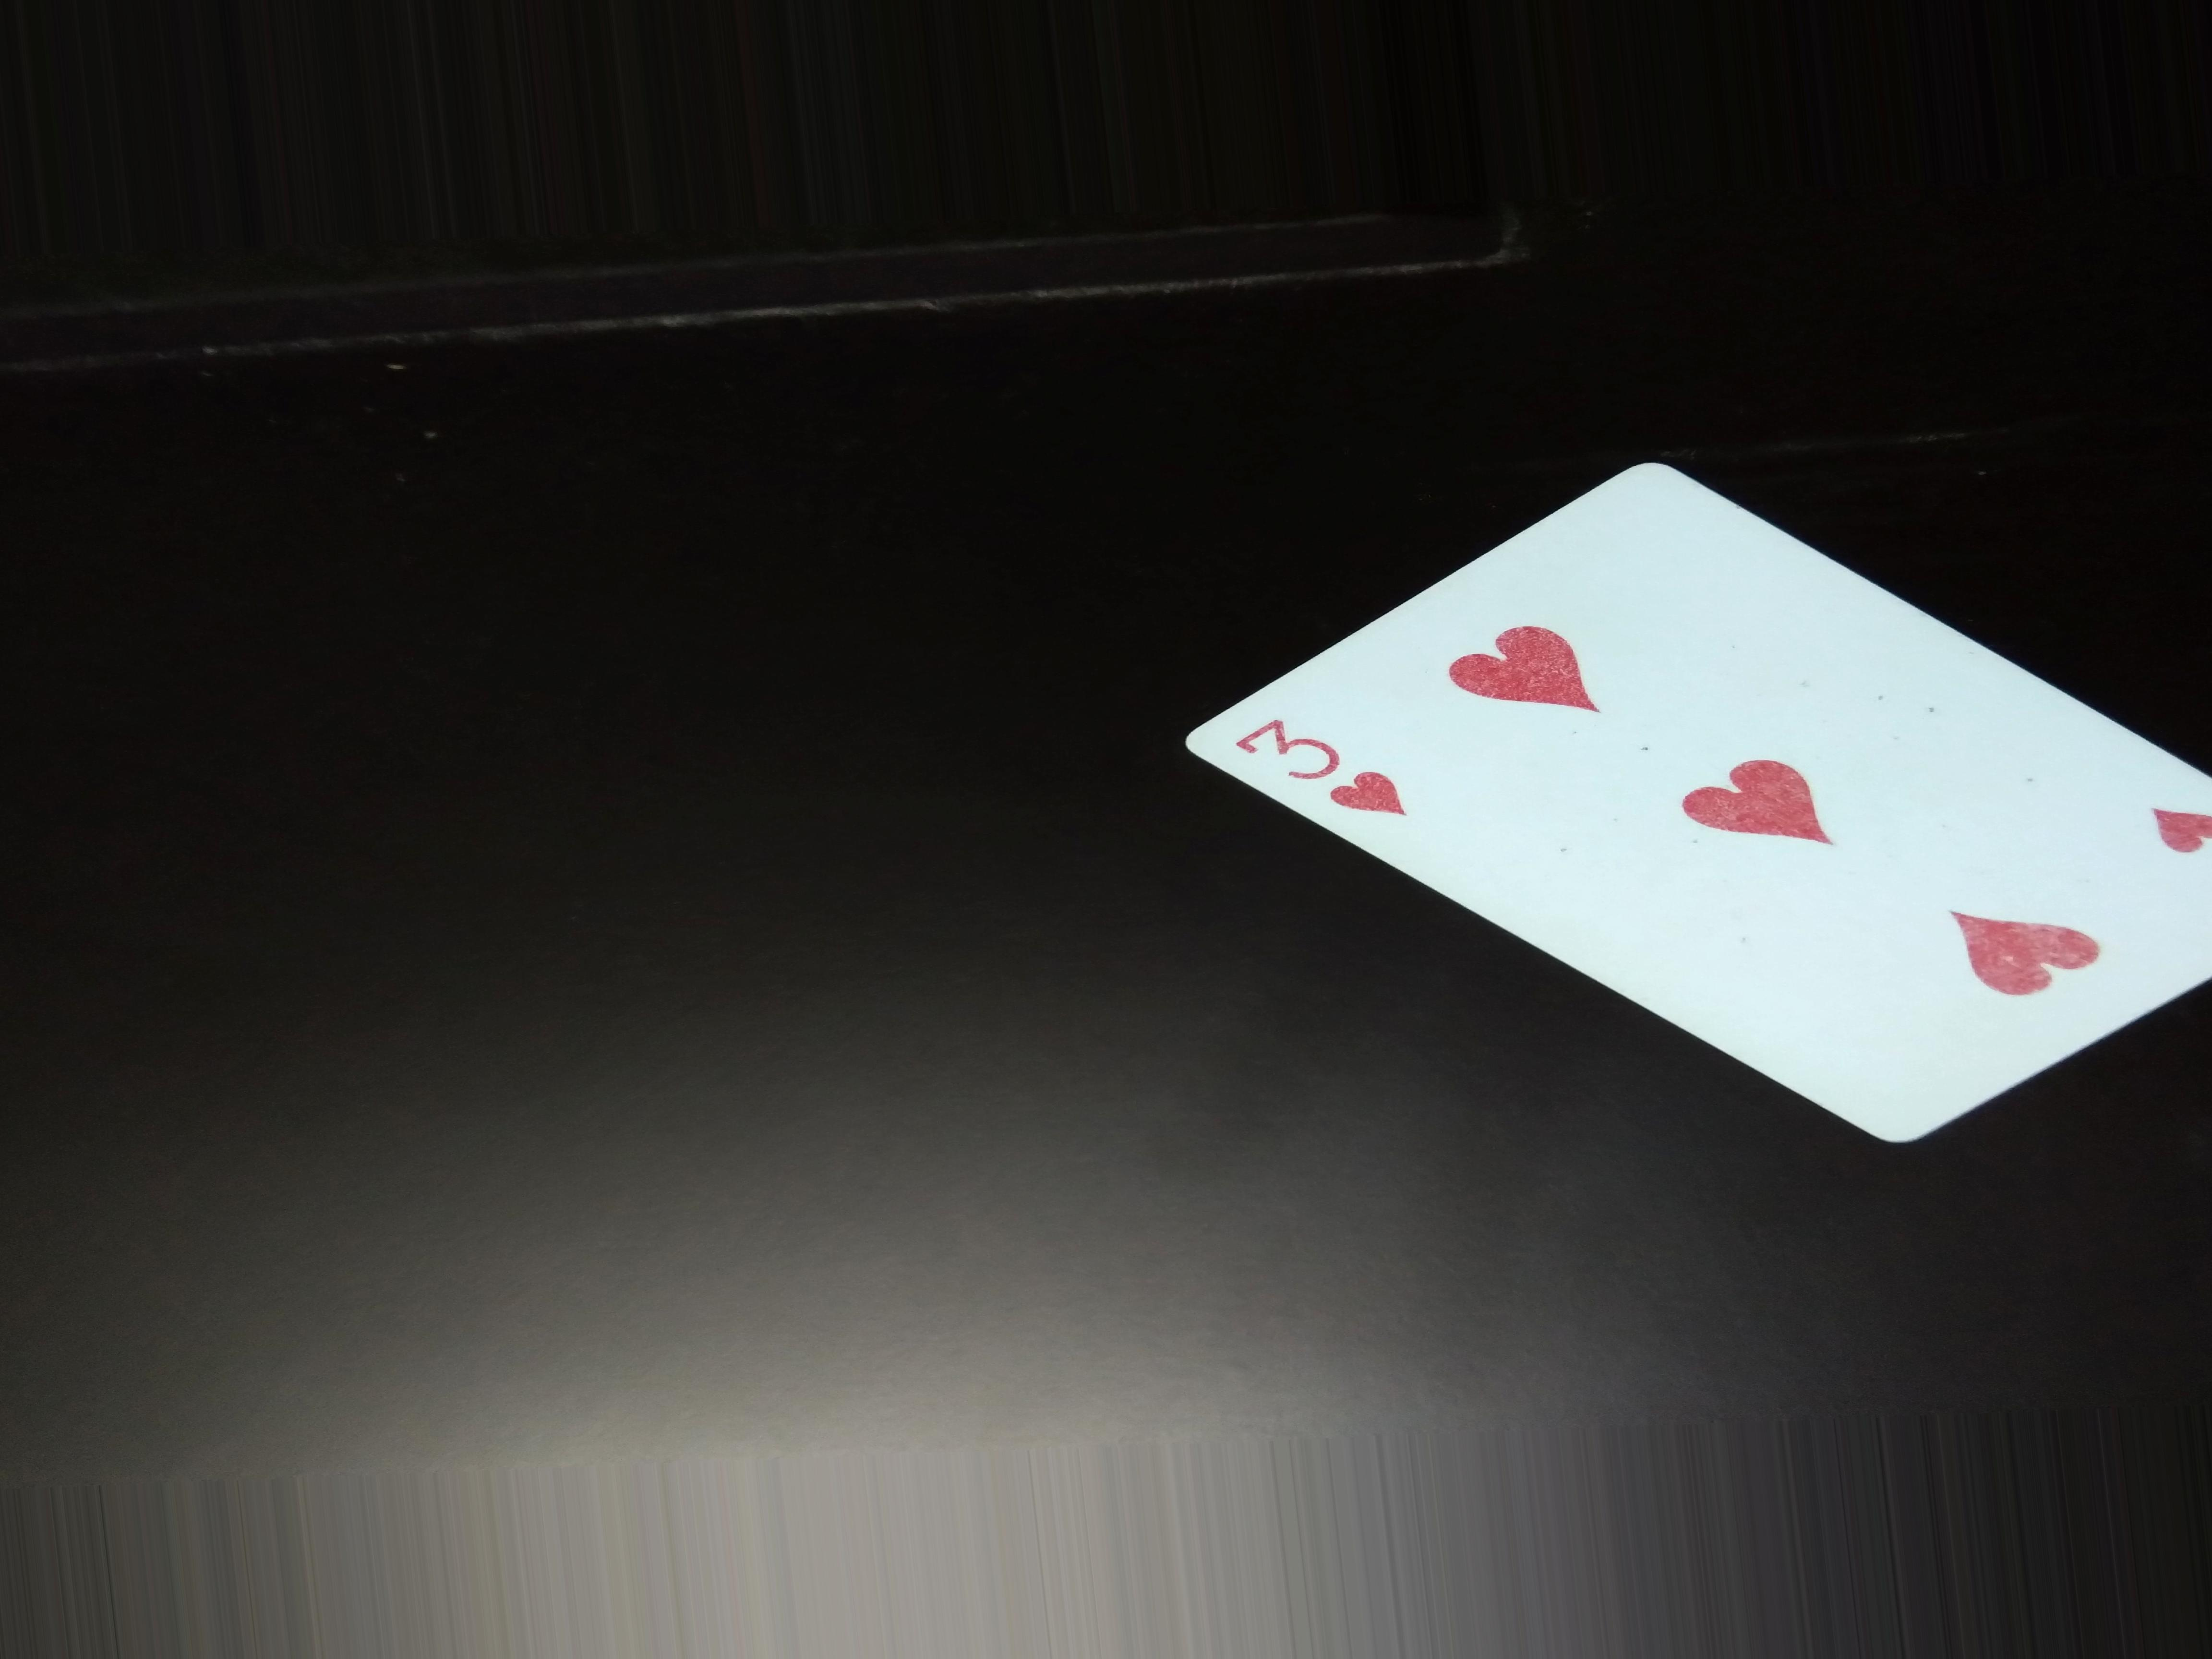3H: (1223, 709, 1420, 842)
